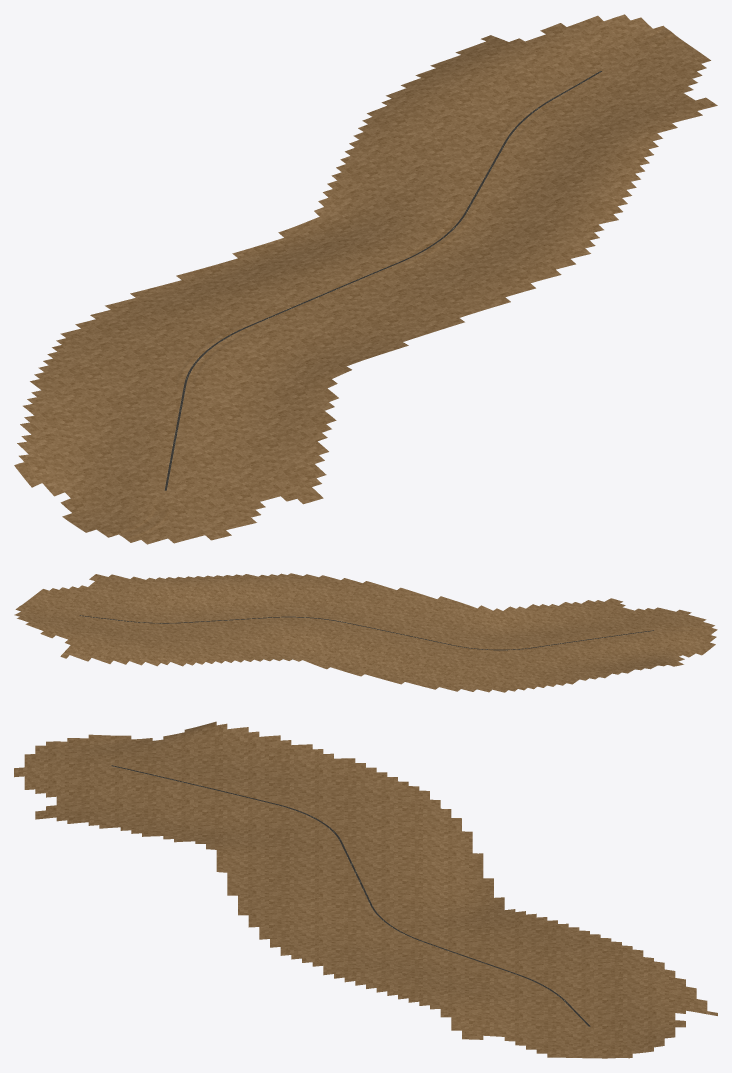
3 views of the same model, one above another, from view 1: azimuth 30°, elevation 25°; view 2: azimuth 150°, elevation 25°; view 3: azimuth 270°, elevation 25° (orthographic). The views are drawn at different scales.
Visible parts, largest first — view 1: S06_TERRAIN_LOD1_WEB_EXPORT, S06_ROAD_ASPHALT_LOD1_WEB_EXPORT; view 2: S06_TERRAIN_LOD1_WEB_EXPORT, S06_ROAD_ASPHALT_LOD1_WEB_EXPORT; view 3: S06_TERRAIN_LOD1_WEB_EXPORT, S06_ROAD_ASPHALT_LOD1_WEB_EXPORT.
Part boxes in pixels (bbox=[...]): S06_TERRAIN_LOD1_WEB_EXPORT: bbox=[14, 14, 717, 544]; S06_ROAD_ASPHALT_LOD1_WEB_EXPORT: bbox=[164, 71, 601, 490]; S06_TERRAIN_LOD1_WEB_EXPORT: bbox=[14, 573, 717, 692]; S06_ROAD_ASPHALT_LOD1_WEB_EXPORT: bbox=[80, 615, 653, 650]; S06_TERRAIN_LOD1_WEB_EXPORT: bbox=[14, 721, 717, 1058]; S06_ROAD_ASPHALT_LOD1_WEB_EXPORT: bbox=[111, 765, 590, 1026].
Bounding box in the file's own units: 3400 × 265 × 2640.
Materials: 6 (6 with a texture image).
